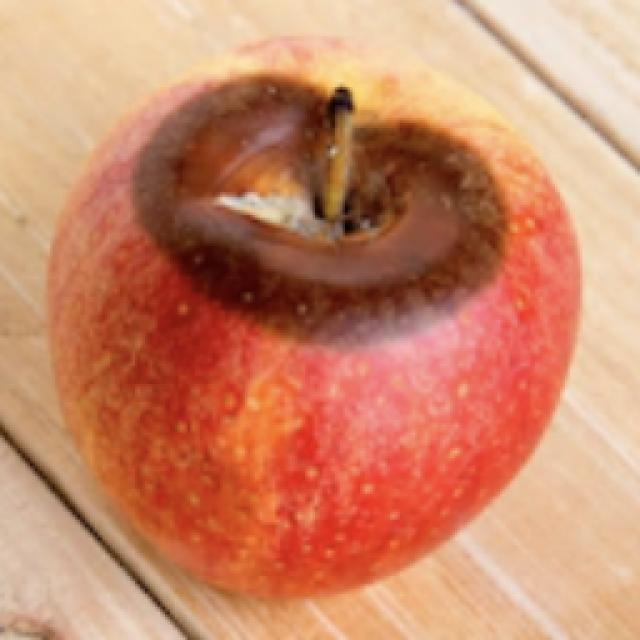Rotten: (40, 32, 582, 598)
